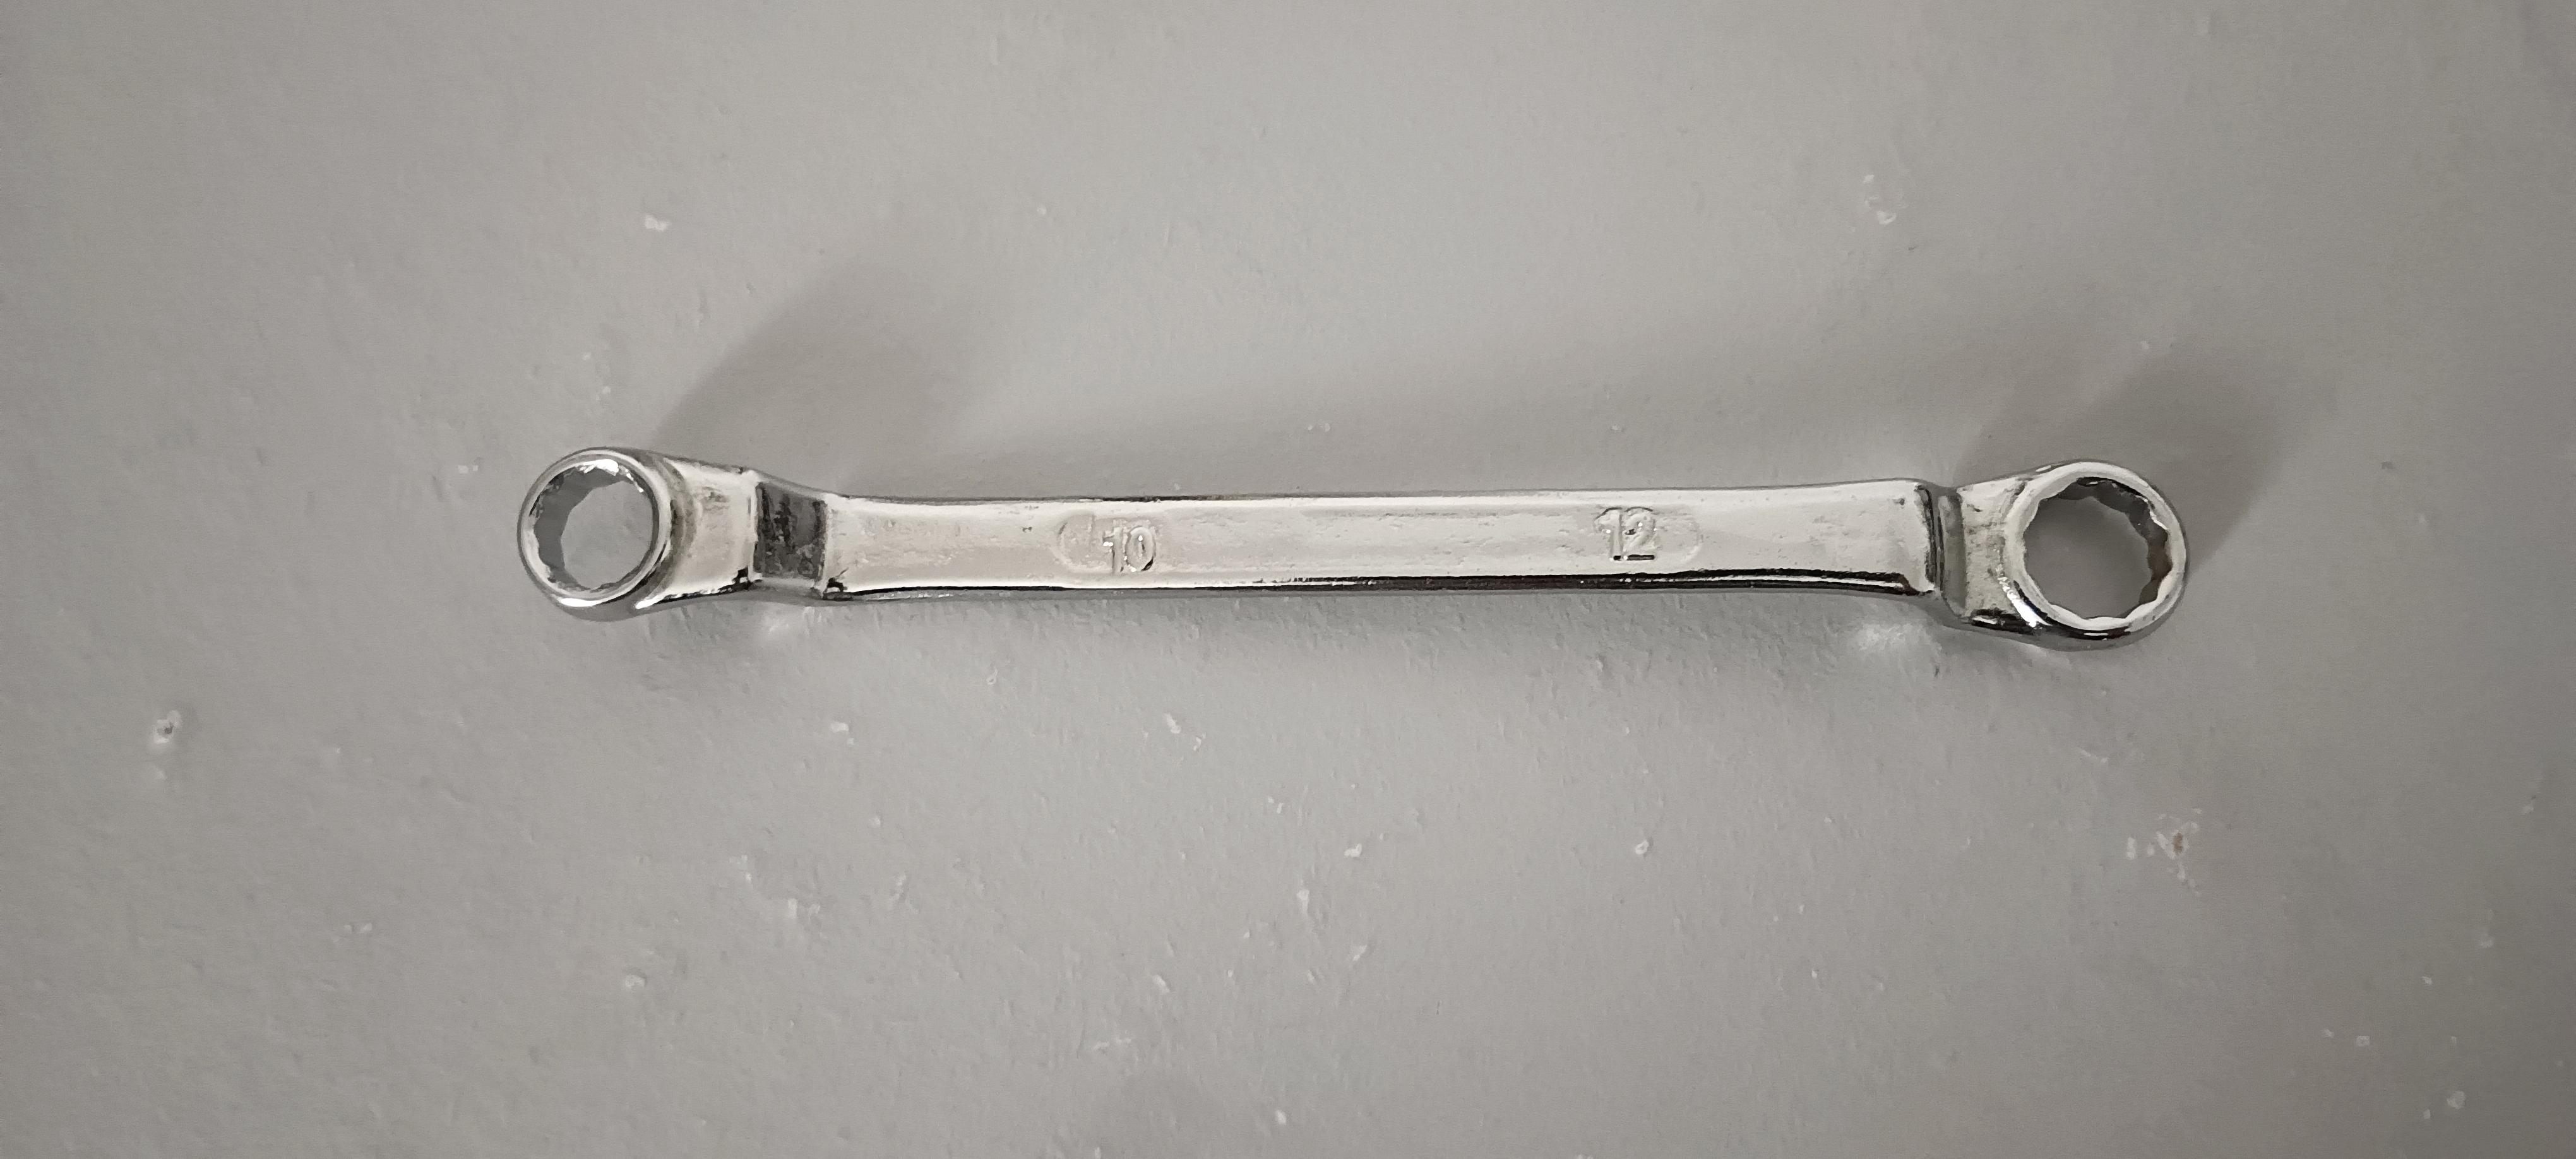Spanners: (494, 373, 2267, 719)
